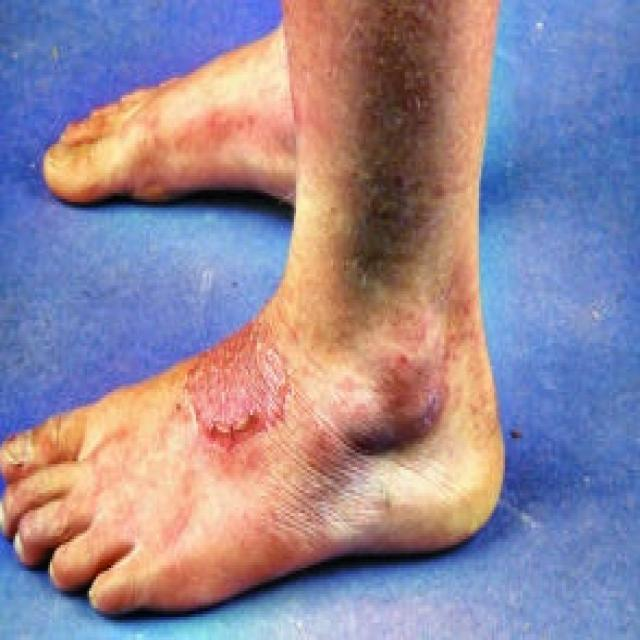Warts-Molluscum-and-other-Viral-Infections: (324, 13, 467, 279), (163, 321, 307, 468)
